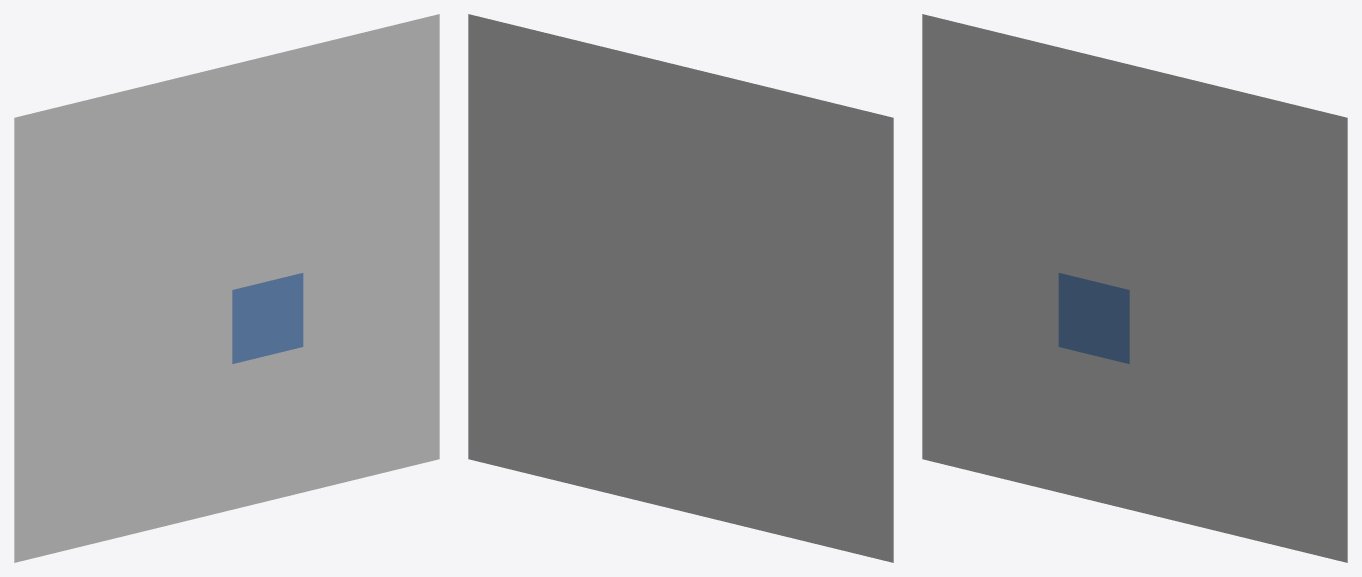
File: RayTracingArea.gltf
The picture shows the model from 3 angles, left to right: view 1: azimuth 30°, elevation 25°; view 2: azimuth 150°, elevation 25°; view 3: azimuth 330°, elevation 25°; orthographic projection.
Visible parts, largest first — view 1: Receiver, Blocker; view 2: Receiver; view 3: Receiver, Blocker.
Part boxes in pixels (x1,y1,x2,y2): Receiver: (14,14,439,562); Blocker: (232,273,303,363); Receiver: (468,14,893,562); Receiver: (922,14,1347,562); Blocker: (1058,273,1129,363).
Size of the model in its own units: 6 by 6 by 1.
